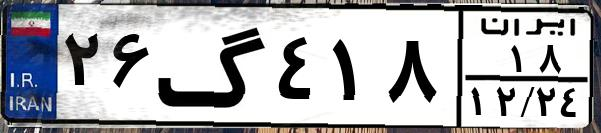1: (330, 28, 385, 110), (508, 27, 537, 80), (470, 70, 495, 125)
2: (57, 26, 110, 100), (495, 70, 520, 125), (535, 70, 560, 125)
4: (270, 28, 330, 110), (560, 70, 590, 125)
6: (110, 28, 156, 98)
8: (385, 28, 445, 110), (537, 27, 568, 80)
گ: (156, 12, 270, 120)
